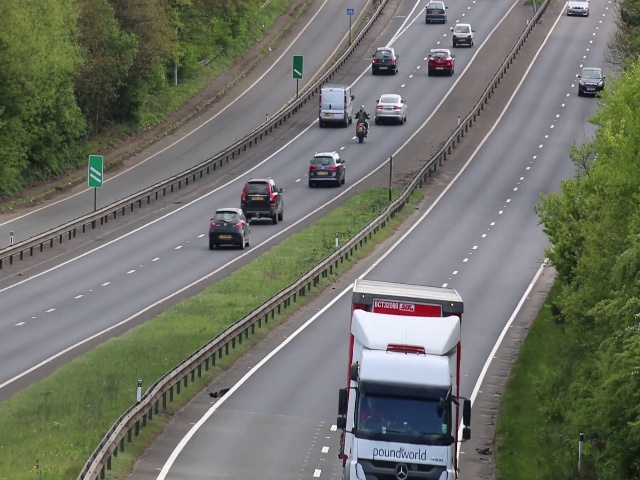car: (345, 283, 462, 480), (208, 208, 250, 252), (241, 181, 285, 222), (318, 85, 353, 126), (373, 89, 408, 125), (310, 153, 346, 187), (428, 46, 455, 78), (372, 44, 397, 76), (580, 66, 604, 99), (424, 2, 448, 25), (453, 23, 473, 48)
